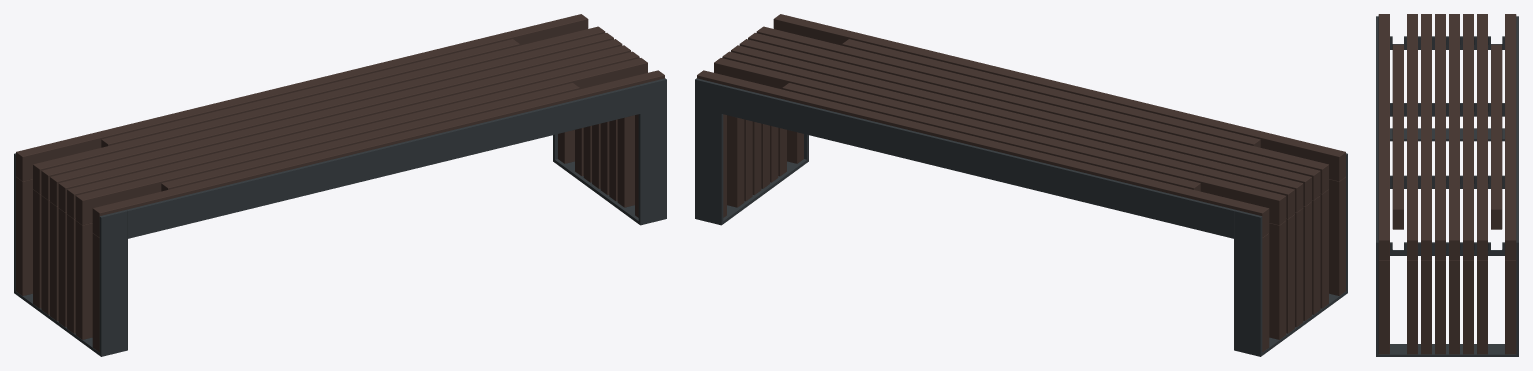
File: G3_std.glb
3 renders of one model, left to right at view 1: azimuth 30°, elevation 25°; view 2: azimuth 150°, elevation 25°; view 3: azimuth 270°, elevation 25°, orthographic. The views are drawn at different scales.
Parts seen in each view (by area): view 1: G3_std; view 2: G3_std; view 3: G3_std.
Part boxes in pixels (x1,y1,x2,y2): G3_std: (14, 14, 666, 356); G3_std: (695, 14, 1347, 356); G3_std: (1376, 14, 1518, 356).
Bounding box in the file's own units: 1.91 × 0.46 × 0.51.
